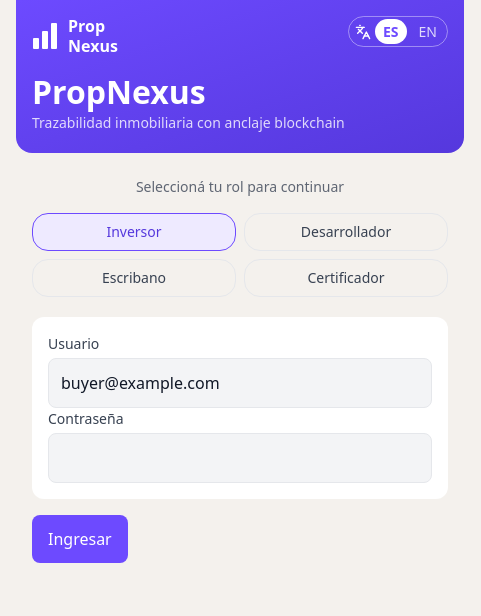
Test case: LoginScreen › demasiados intentos (429): lo dice, en vez de culpar a la API caída
Click the button "Ingresar": coordinates (80, 539) [32,515,128,563]
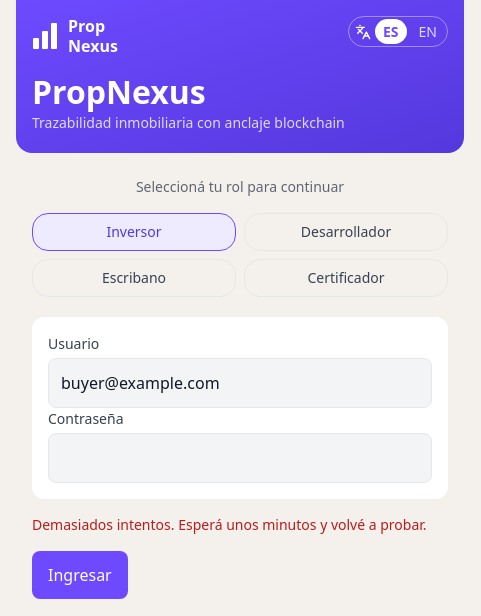
Now the text "Demasiados intentos. Esperá unos minutos y volvé a probar." is shown, box [32,515,448,535]
